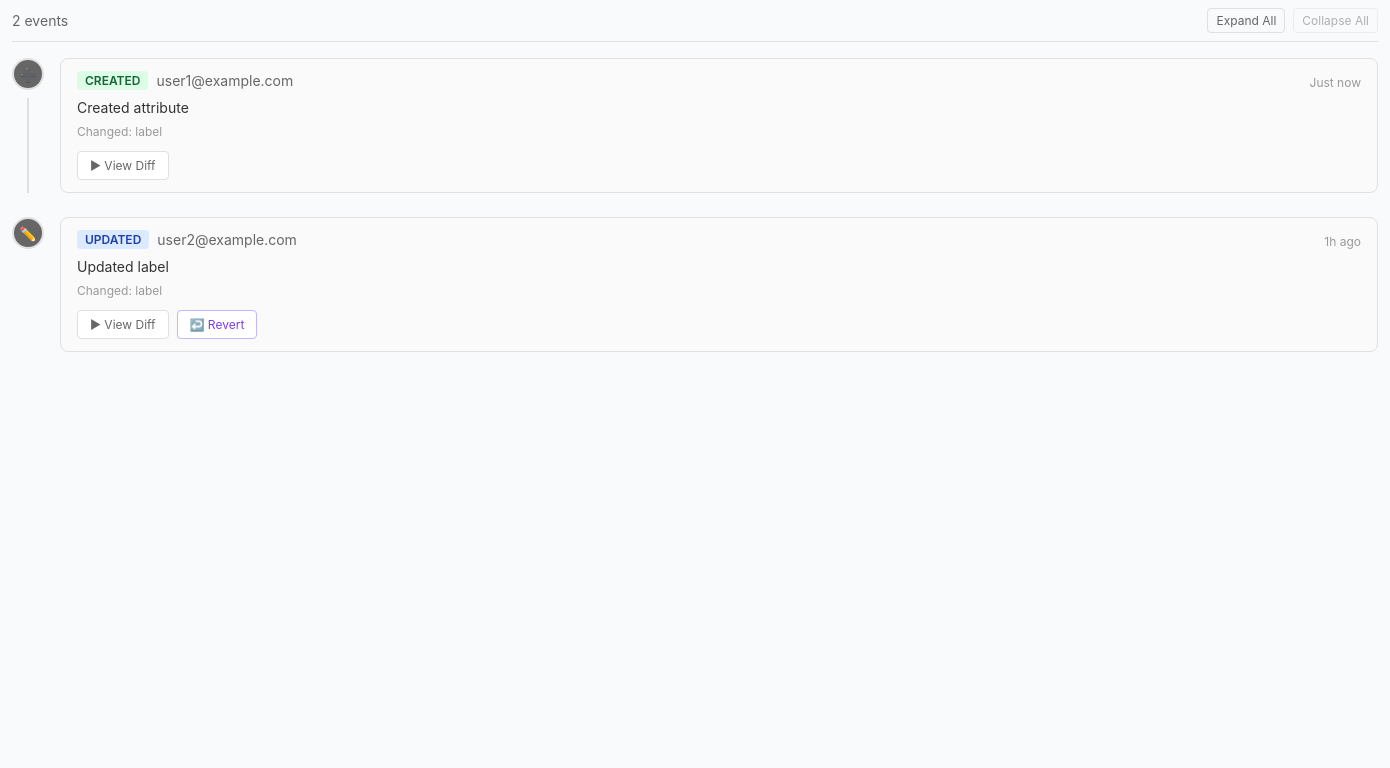
Test: AuditTimeline › should toggle diff view on click
What coordinates should you click on to do the following:
click the button "▶ View Diff" below "Created attribute"
I would click on:
 (123, 166)
Its box is [77, 151, 168, 180].
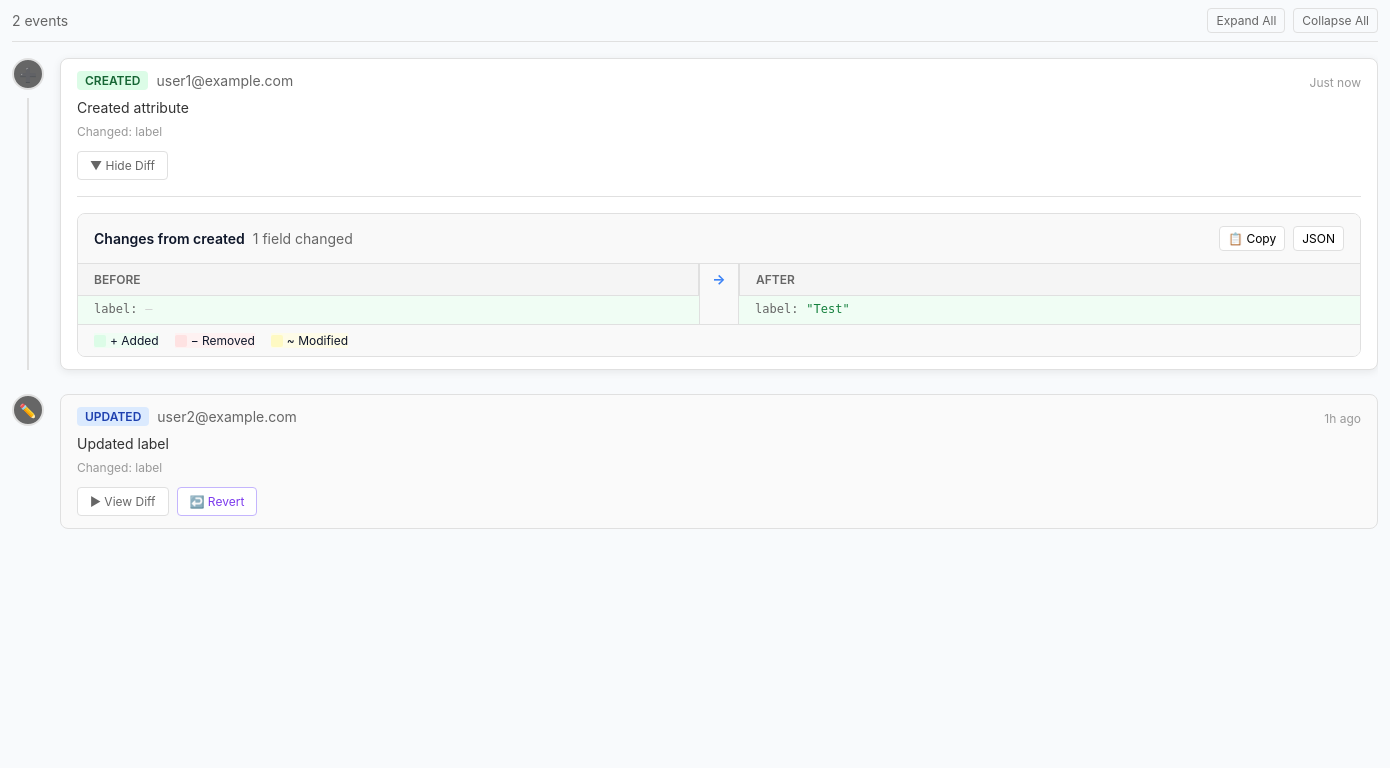
Result: the button "▼ Hide Diff" is shown at [77, 151, 168, 180]
